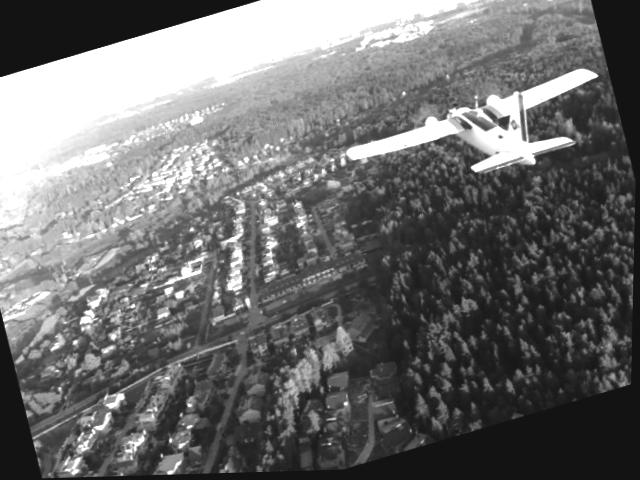hedef: (321, 41, 631, 234)
